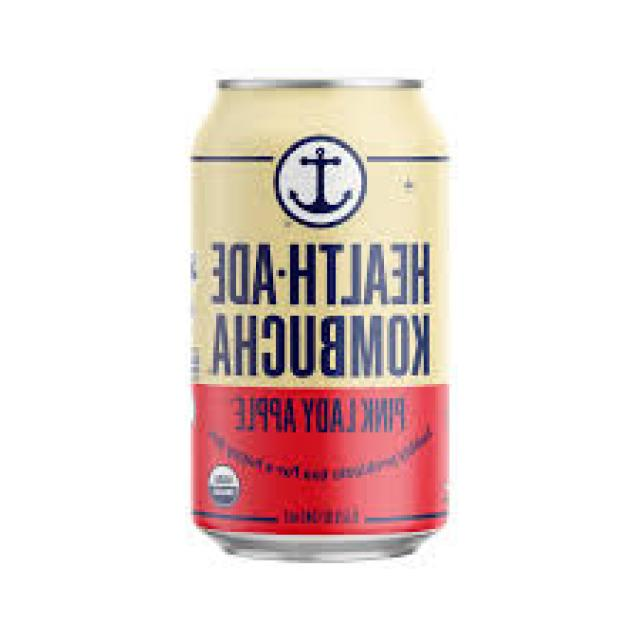metal: (189, 76, 451, 564)
